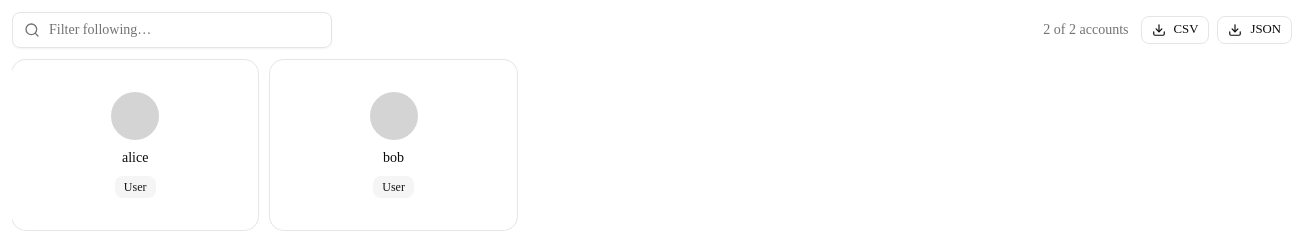
Scenario: FollowingList › filters users by username
Type "alice" into the field with placeholder "Filter following…" at (172, 30), box [12,12,332,48]
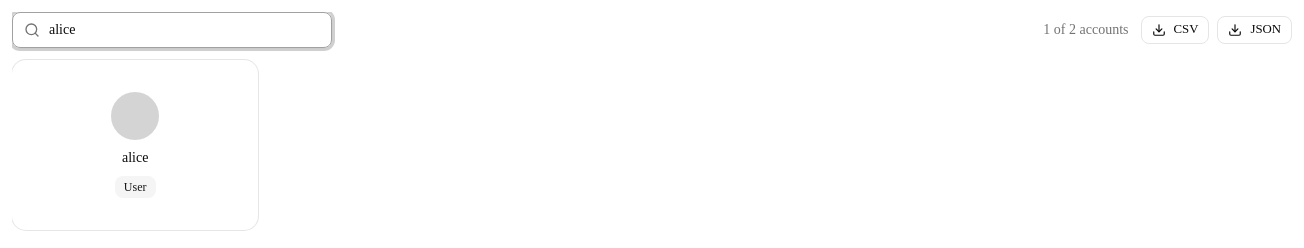
Expected: the text "alice" is shown, [122,150,148,165]
Now the link "bob" is gone
